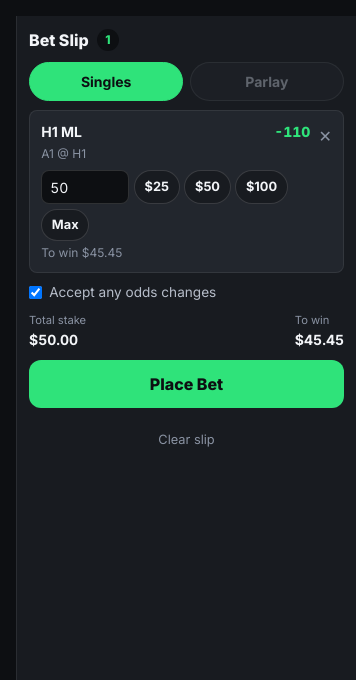
Test case: BetSlip › sends no expected price when any odds change is accepted
The width and height of the screenshot is (356, 680).
What coordinates should you click on to do the following:
click the button "Place Bet"
I would click on:
 (186, 384)
Its box is [29, 360, 344, 408].
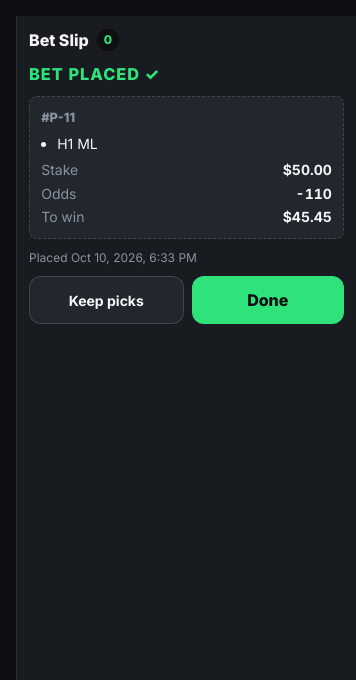
Check: the text "#P-11" is shown, box [41, 110, 75, 125]
